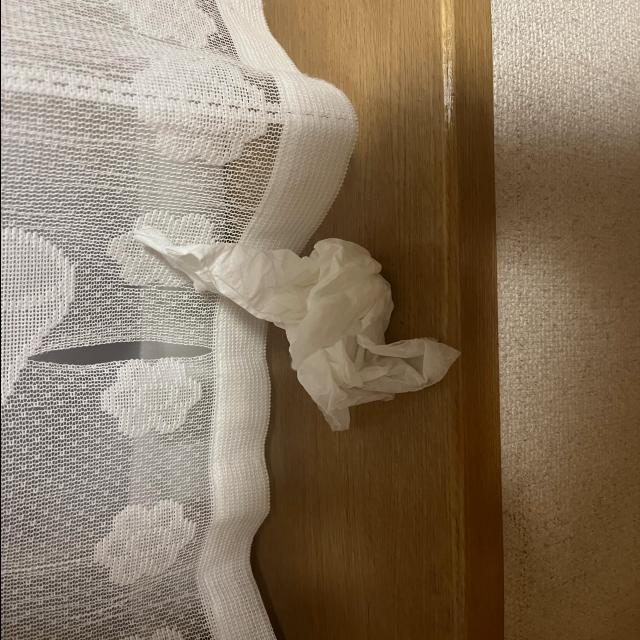Paper: (144, 216, 464, 456)
